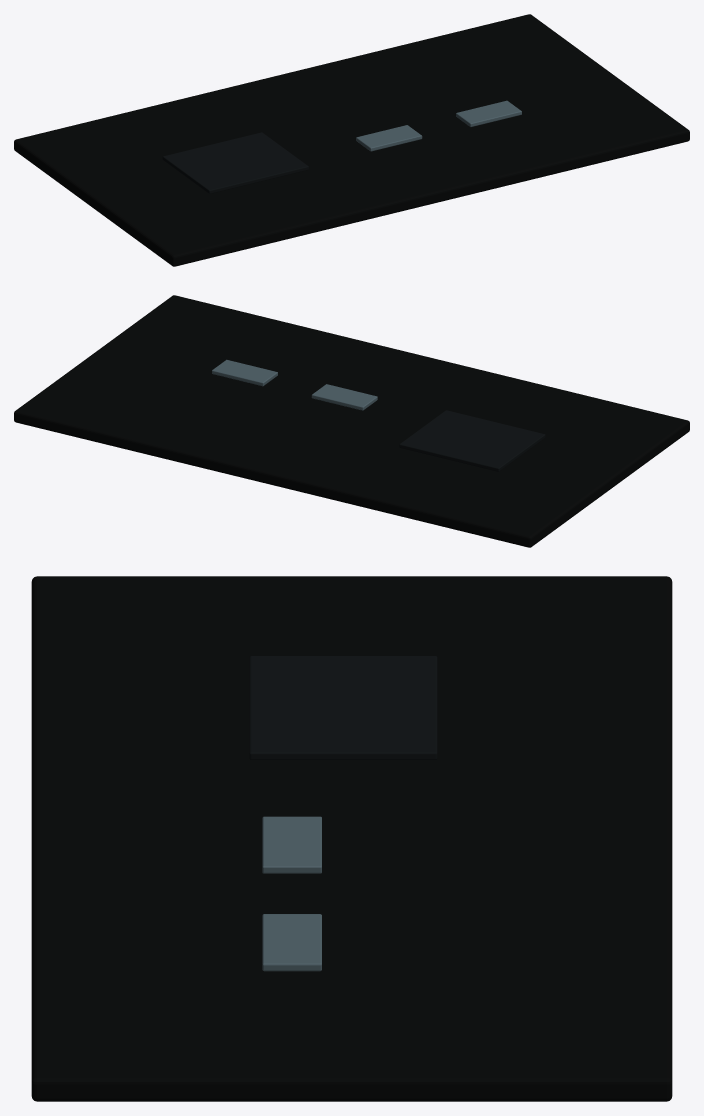
File: connections.obj
3 renders of one model, top to bottom at view 1: azimuth 30°, elevation 25°; view 2: azimuth 150°, elevation 25°; view 3: azimuth 270°, elevation 25°, orthographic. The views are drawn at different scales.
Visible parts, largest first — view 1: flex__connections__service_panel, flex__connections__power_socket, flex__connections__usb, flex__connections__usb.001; view 2: flex__connections__service_panel, flex__connections__power_socket, flex__connections__usb, flex__connections__usb.001; view 3: flex__connections__service_panel, flex__connections__power_socket, flex__connections__usb, flex__connections__usb.001.
Part boxes in pixels (x1,y1,x2,y2): flex__connections__service_panel: (14,14,689,266); flex__connections__power_socket: (162,132,308,193); flex__connections__usb: (356,125,422,151); flex__connections__usb.001: (456,100,521,126); flex__connections__service_panel: (14,295,689,547); flex__connections__power_socket: (399,410,545,471); flex__connections__usb: (311,384,377,410); flex__connections__usb.001: (212,359,277,386); flex__connections__service_panel: (31,576,672,1101); flex__connections__power_socket: (249,656,437,759); flex__connections__usb: (262,816,321,873); flex__connections__usb.001: (262,914,321,971).
Bounding box in the file's own units: 0.14 × 0.004 × 0.075.
